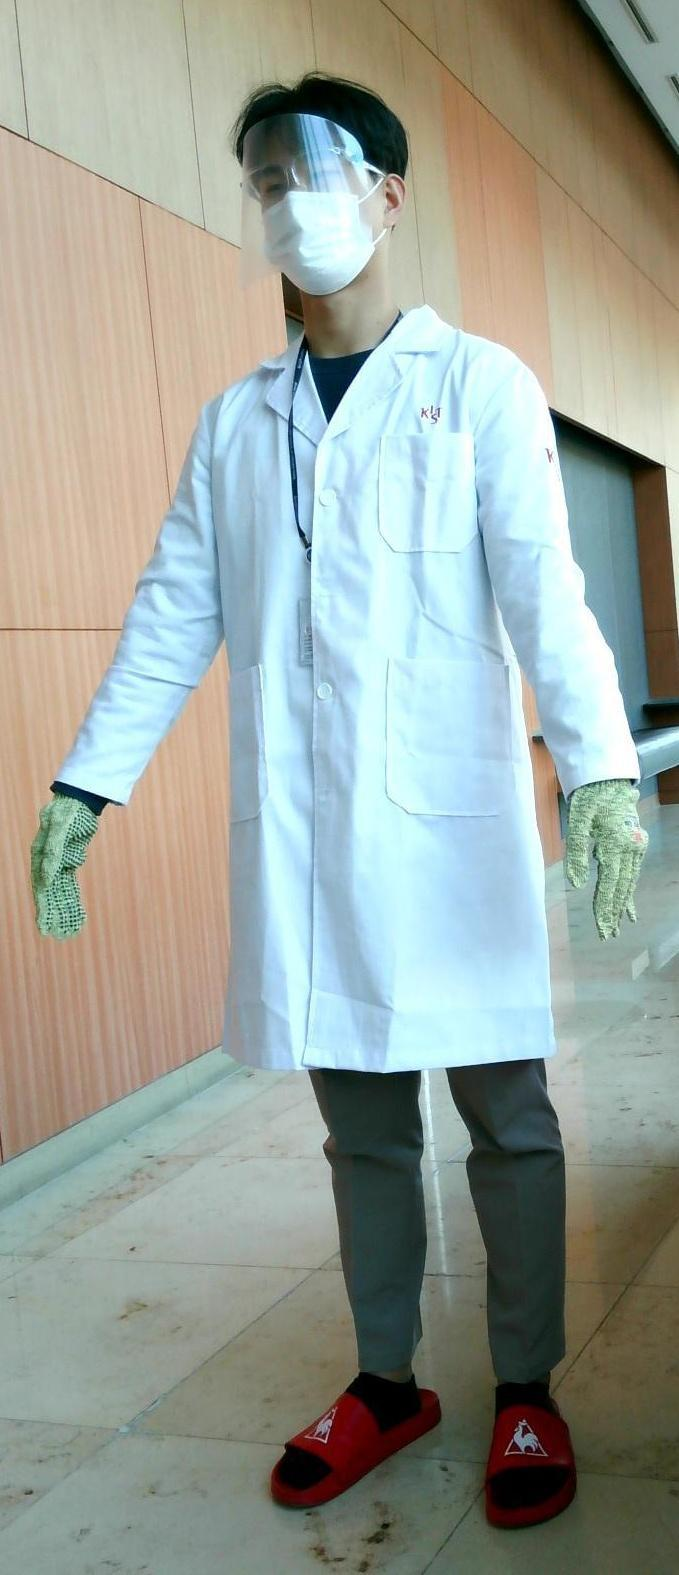lab_coat: (107, 384, 559, 1068)
